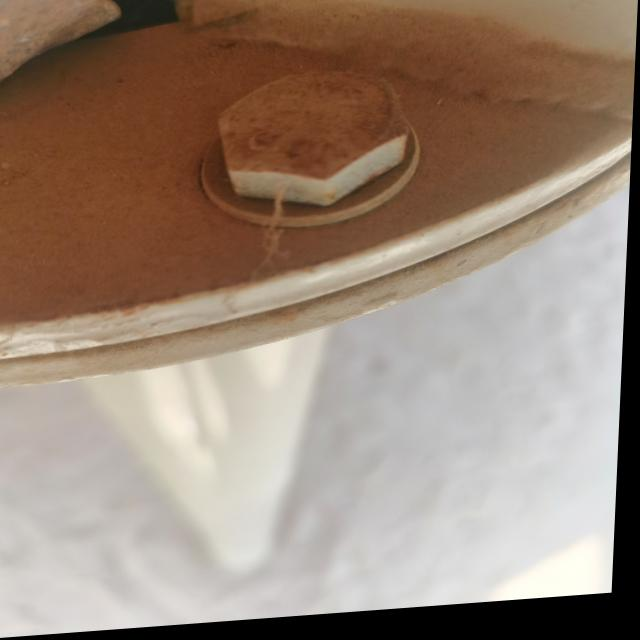Rusty bolt: (215, 71, 414, 221)
